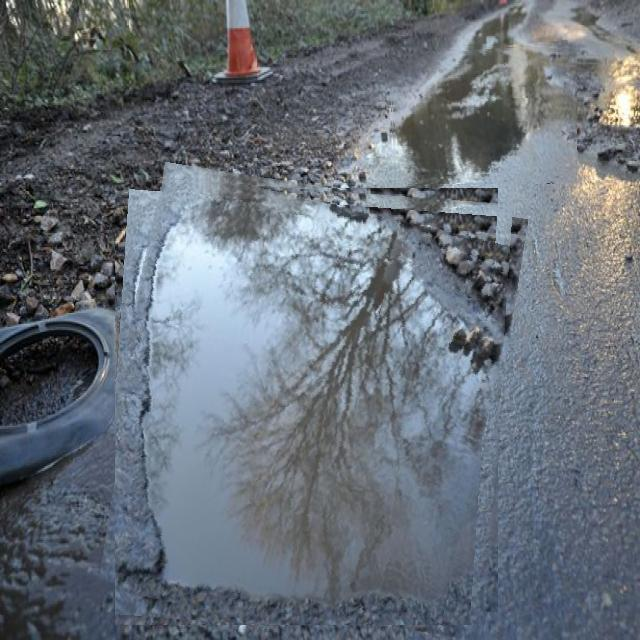Pothole: (115, 175, 513, 625), (390, 44, 577, 184)
